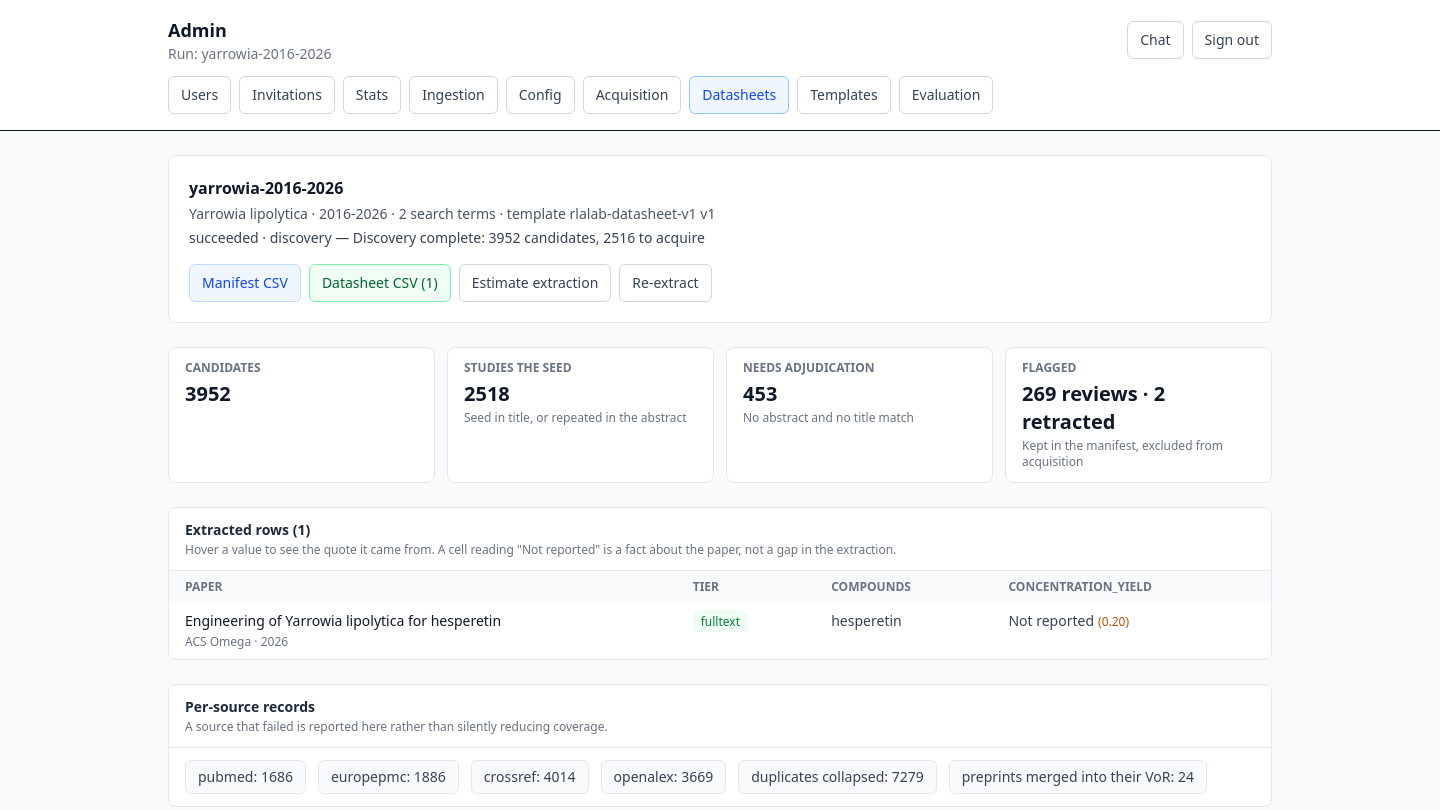
Test case: AdminDatasheetRunClient › re-extracts a finished run without repeating discovery
Click the button "Re-extract" at (665, 283), box [619,264,712,302]
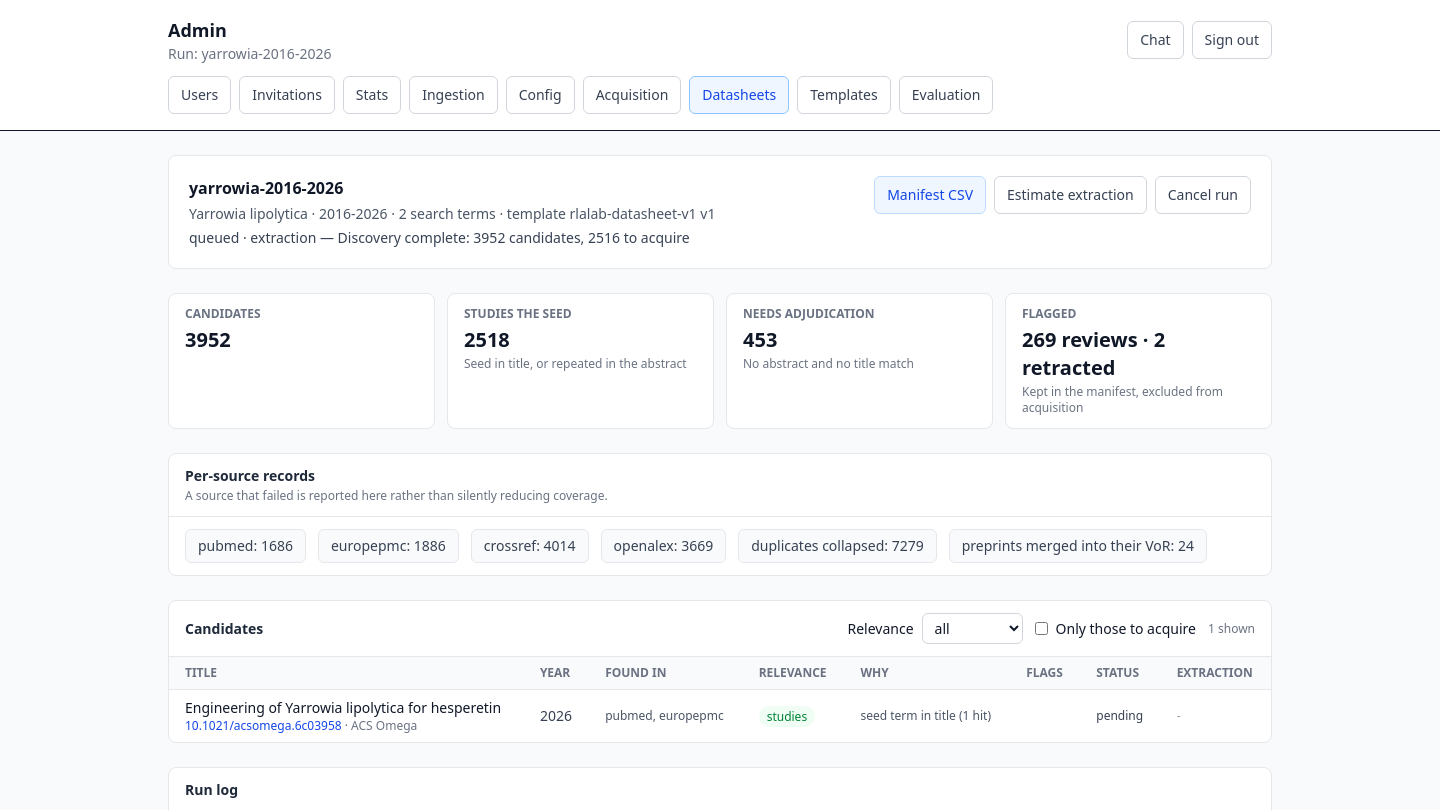
Check: the heading "Extracted rows (1)" is gone
